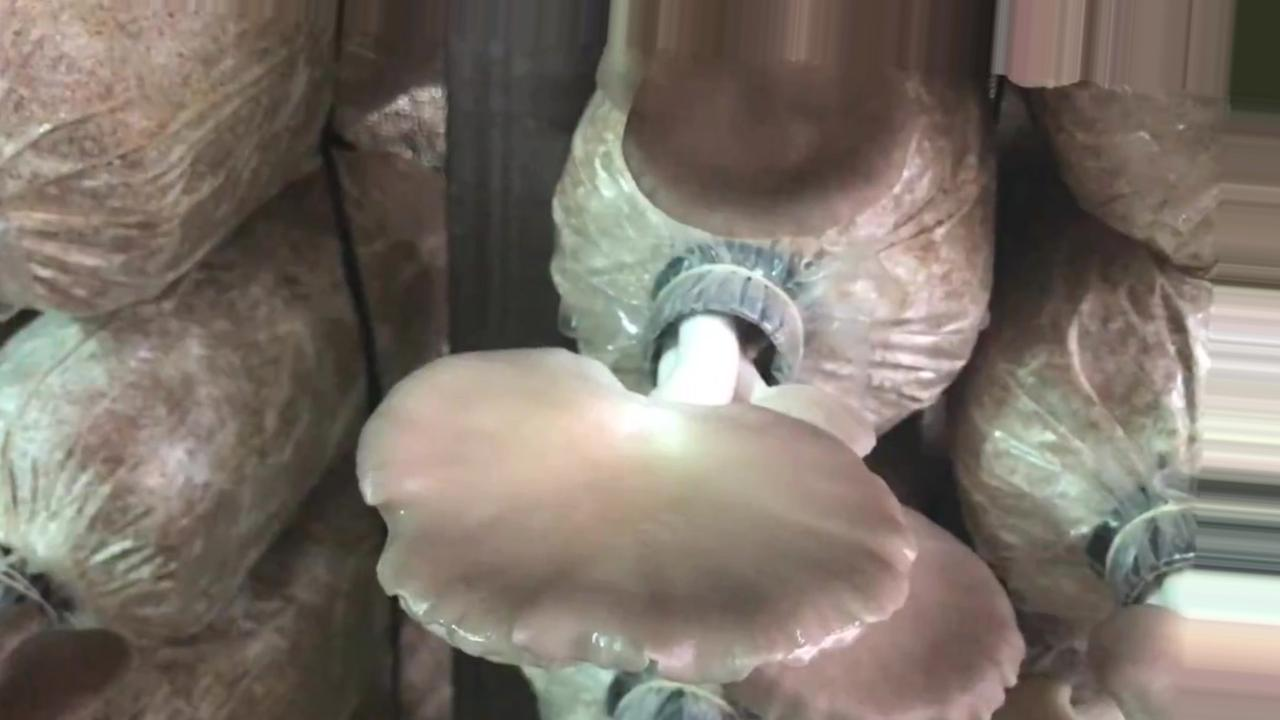nam: (352, 242, 923, 692), (727, 489, 1028, 720), (616, 53, 923, 239), (1107, 493, 1187, 720)
